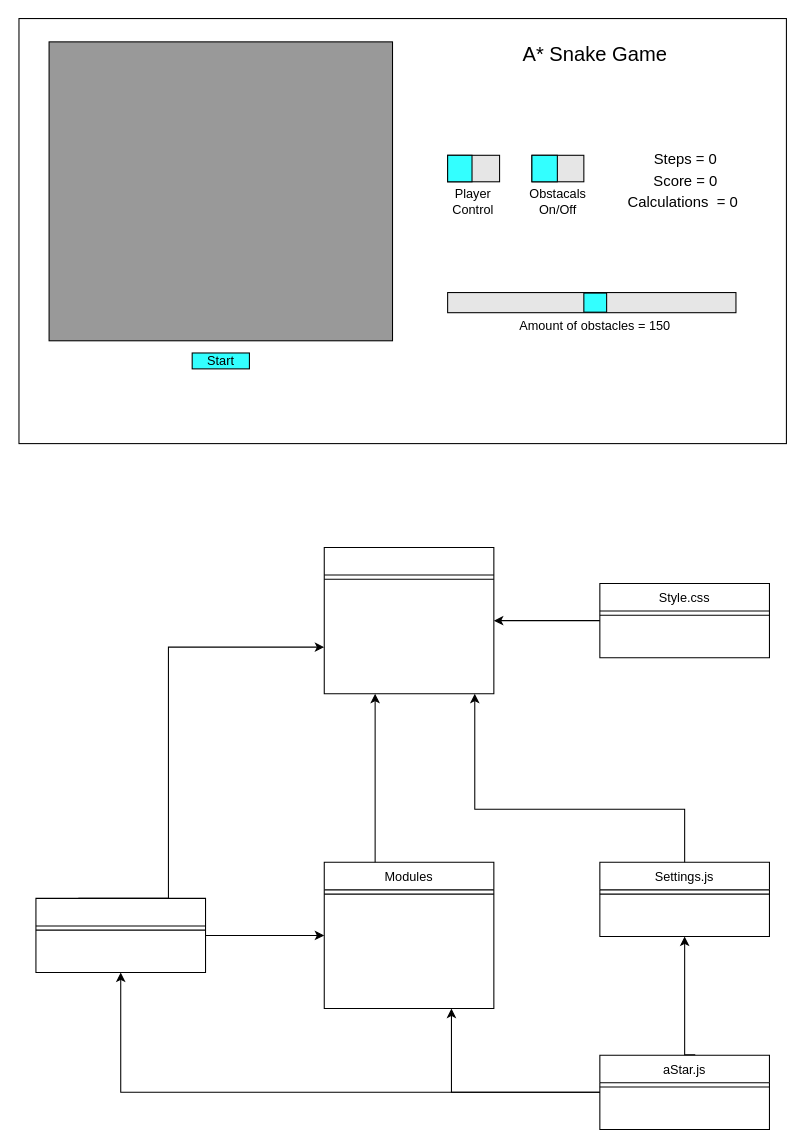
Some shapes in this 805 by 1148 pixel diagram are drawn without their labels. Here are the shapes that lost their labels. From the top down, the centre of each, then its label:
At point (408, 620): "Canvas.html".
At point (120, 935): "Main.js".
